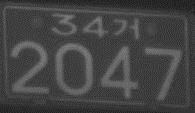0: (54, 42, 93, 97)
2: (10, 40, 48, 94)
3: (51, 12, 77, 37)
4: (99, 44, 138, 99), (81, 15, 108, 39)
7: (144, 45, 182, 102)
거: (112, 16, 140, 39)
